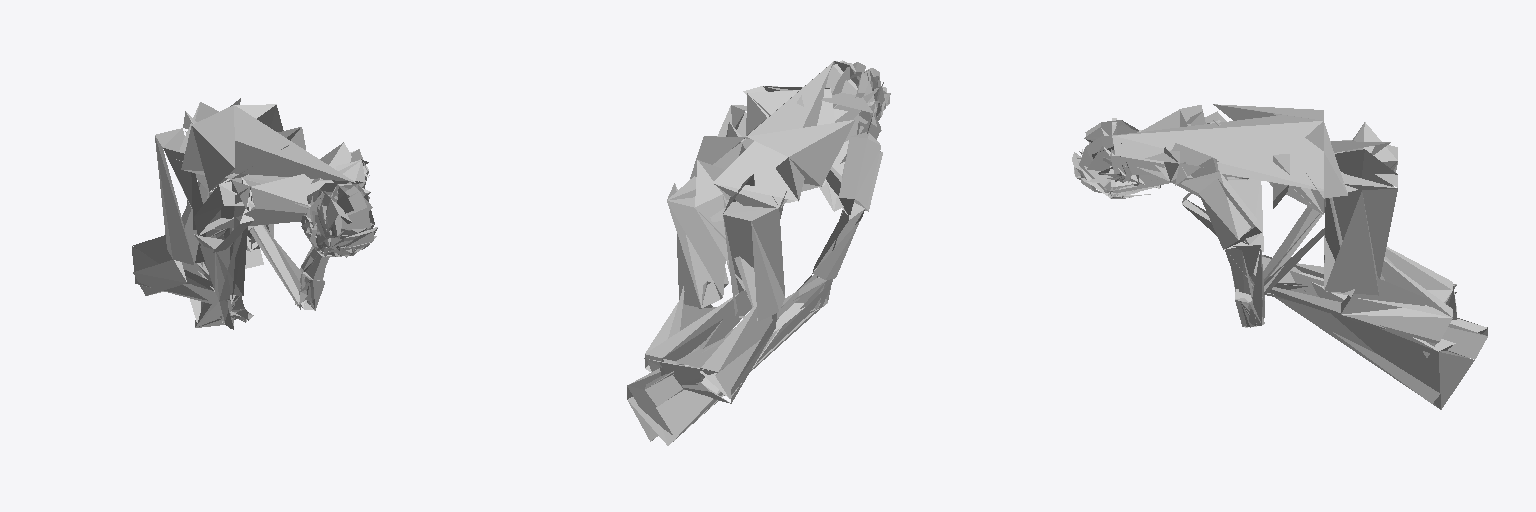
Rendered from pilot.acii.OBJ.
3 renders of one model, left to right at view 1: azimuth 30°, elevation 25°; view 2: azimuth 150°, elevation 25°; view 3: azimuth 270°, elevation 25°, orthographic.
Size of the model in its own units: 0.5927 by 0.9792 by 1.36.